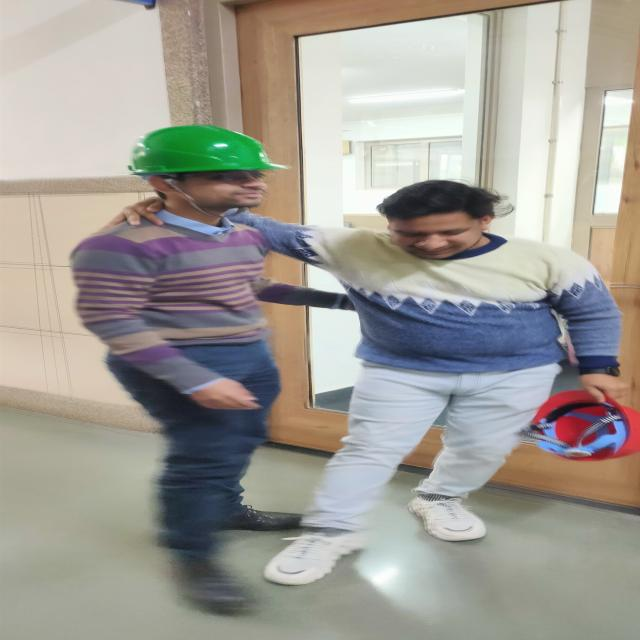no jacket: (72, 127, 306, 550)
unsafe: (272, 180, 627, 582)
